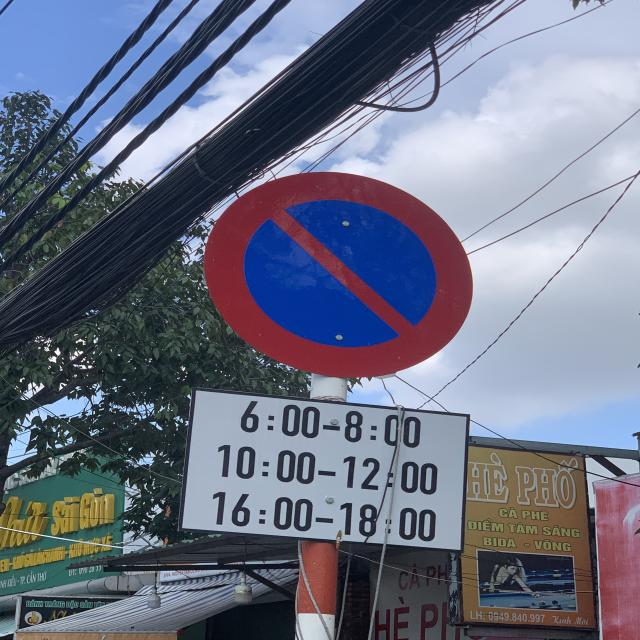Cam_Dau_Xe: (201, 169, 475, 378)
